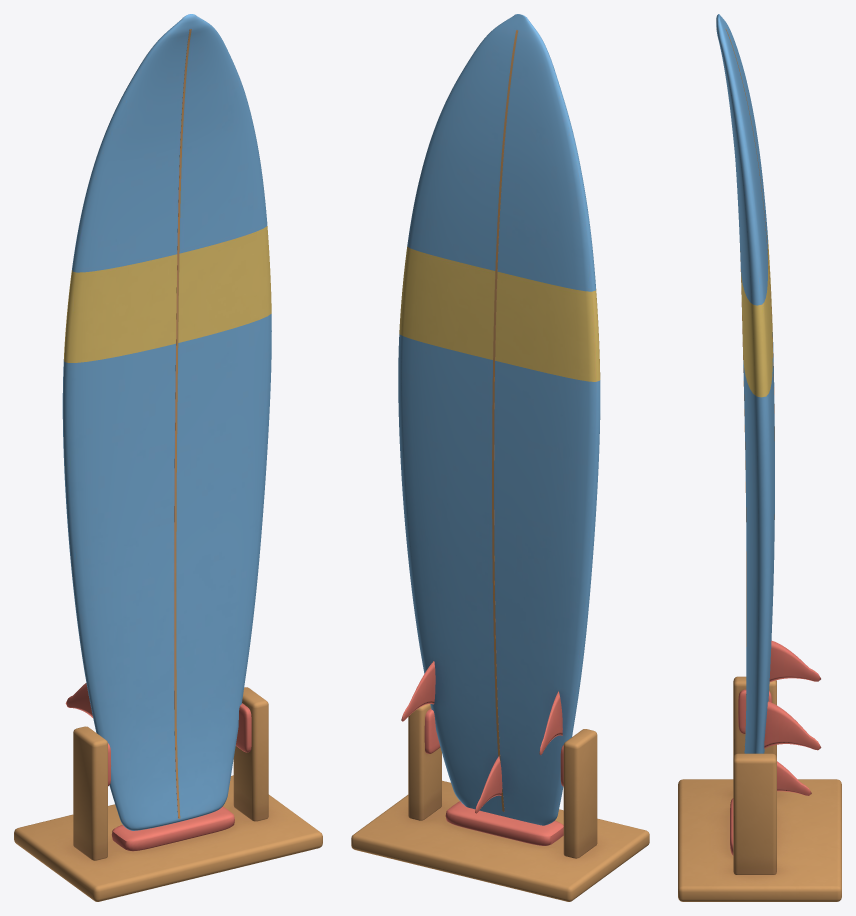
File: surfboard.glb
The picture shows the model from 3 angles, left to right: view 1: azimuth 30°, elevation 25°; view 2: azimuth 150°, elevation 25°; view 3: azimuth 270°, elevation 25°; orthographic projection. The views are drawn at different scales.
Visible parts, largest first — view 1: surfboard_body, surfboard_stand; view 2: surfboard_body, surfboard_stand; view 3: surfboard_body, surfboard_stand.
Part boxes in pixels (box(x1,y1,x2,y2)): surfboard_body: box(62, 14, 271, 830); surfboard_stand: box(14, 687, 322, 901); surfboard_body: box(398, 14, 600, 825); surfboard_stand: box(351, 704, 649, 901); surfboard_body: box(716, 14, 821, 795); surfboard_stand: box(678, 676, 841, 901).
Size of the model in its own units: 0.54 by 1.91 by 0.34.
2 materials, 2 textured.
